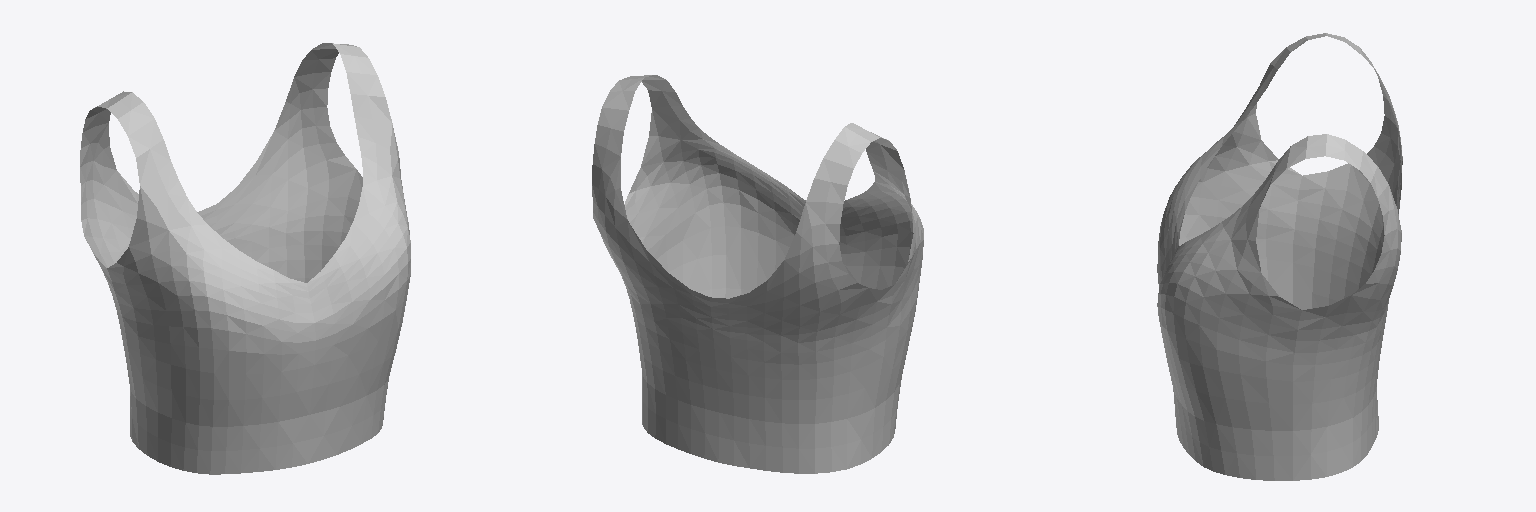
Rendered from 8_bodicedeepv.obj.
3 views of the same model, side by side, from view 1: azimuth 30°, elevation 25°; view 2: azimuth 150°, elevation 25°; view 3: azimuth 270°, elevation 25° (orthographic).
Parts seen in each view (by area): view 1: bodicefrontleft, bodicefrontright, bodicebackright, bodicebackleft, object_7, bodiceback; view 2: bodicebackleft, bodiceback, object_7, bodicefrontleft, bodicebackright, bodicefrontright; view 3: object_7, bodicebackright, bodicefrontleft, bodicebackleft, bodicefrontright, bodiceback.
Boxes of the visible parts, <box> form: bodicefrontleft: <box>107,92,315,474</box>; bodicefrontright: <box>307,187,407,463</box>; bodicebackright: <box>269,43,362,282</box>; bodicebackleft: <box>80,91,138,448</box>; object_7: <box>333,43,410,432</box>; bodiceback: <box>117,132,273,266</box>; bodicebackleft: <box>781,127,894,473</box>; bodiceback: <box>628,221,783,472</box>; object_7: <box>622,75,725,297</box>; bodicefrontleft: <box>839,123,923,457</box>; bodicebackright: <box>592,78,665,443</box>; bodicefrontright: <box>715,144,805,298</box>; object_7: <box>1173,134,1326,480</box>; bodicebackright: <box>1293,134,1401,480</box>; bodicefrontleft: <box>1157,33,1326,303</box>; bodicebackleft: <box>1293,33,1402,309</box>; bodicefrontright: <box>1157,223,1219,465</box>; bodiceback: <box>1367,161,1402,454</box>.
Size of the model in its own units: 12.98 by 15.18 by 9.87.